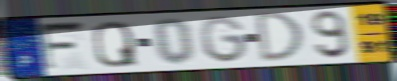0: (150, 17, 198, 67)
9: (309, 9, 352, 61)
D: (255, 11, 307, 65)
F: (37, 19, 89, 73)
G: (198, 14, 250, 65)
Q: (91, 19, 140, 69)
